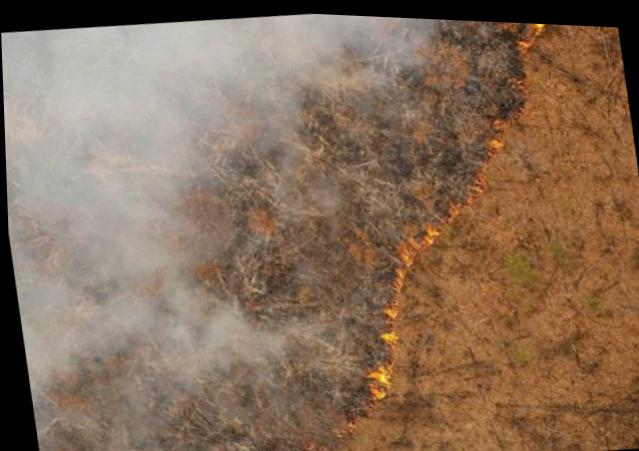fire: (291, 10, 616, 421)
